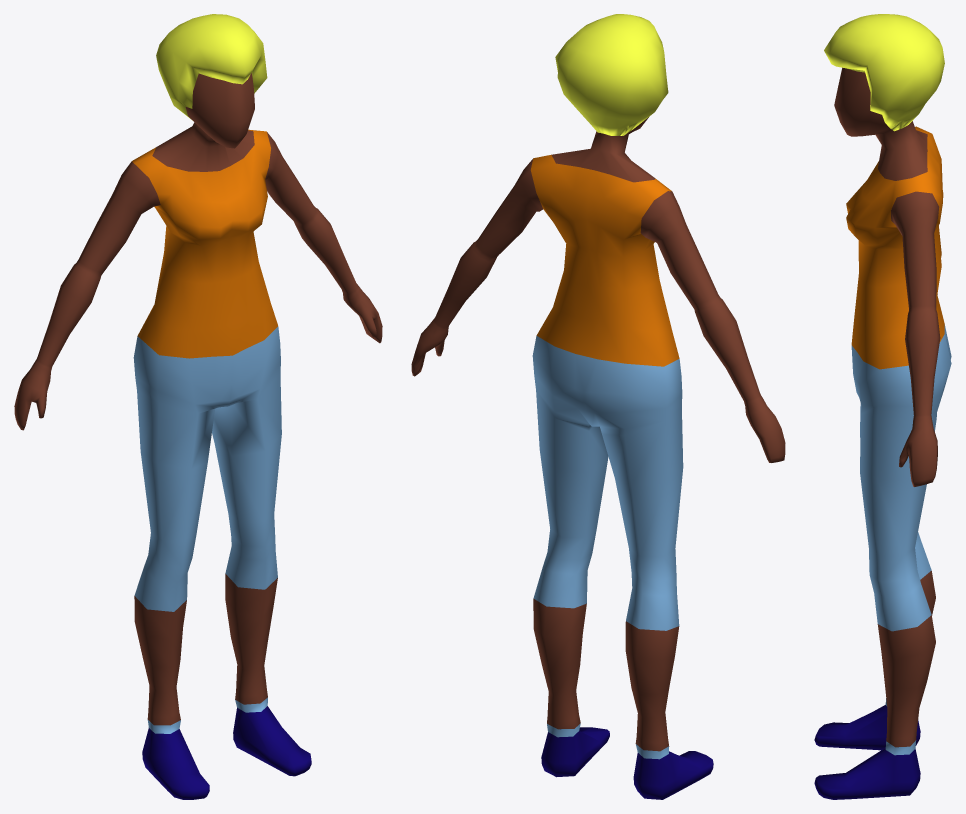
The model's file is female.glb.
The picture shows the model from 3 angles, left to right: view 1: azimuth 30°, elevation 25°; view 2: azimuth 150°, elevation 25°; view 3: azimuth 270°, elevation 25°; orthographic projection.
Parts seen in each view (by area): view 1: corpo.004; view 2: corpo.004; view 3: corpo.004.
Part boxes in pixels (left/top/right/bottom): corpo.004: left=14, top=14, right=382, bottom=799; corpo.004: left=411, top=14, right=785, bottom=799; corpo.004: left=814, top=14, right=951, bottom=799.
Bounding box in the file's own units: 0.9132 × 1.79 × 0.2982.
